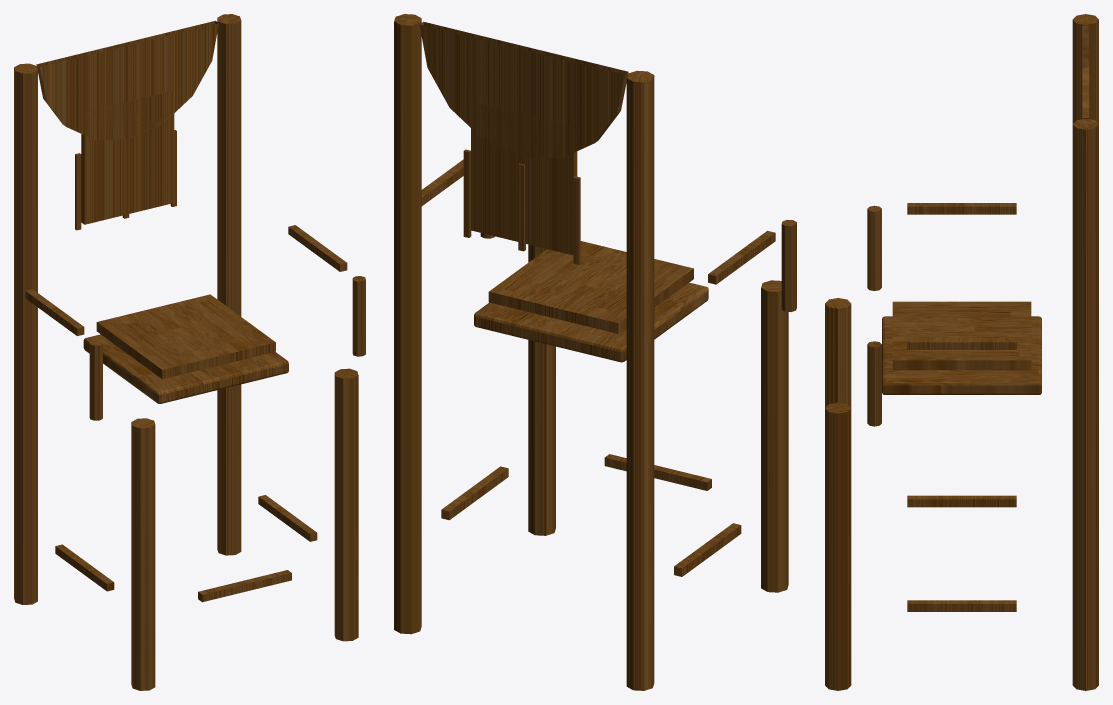
The model's file is ornate_chair.glb.
3 views of the same model, side by side, from view 1: azimuth 30°, elevation 25°; view 2: azimuth 150°, elevation 25°; view 3: azimuth 270°, elevation 25° (orthographic). The views are drawn at different scales.
Parts seen in each view (by area): view 1: ornate_chair; view 2: ornate_chair; view 3: ornate_chair.
Boxes of the visible parts, bbox=[...] form: ornate_chair: bbox=[14, 14, 365, 690]; ornate_chair: bbox=[394, 14, 796, 690]; ornate_chair: bbox=[825, 14, 1098, 690].
Bounding box in the file's own units: 0.46 × 0.85 × 0.376.
Materials: 1 (1 with a texture image).
